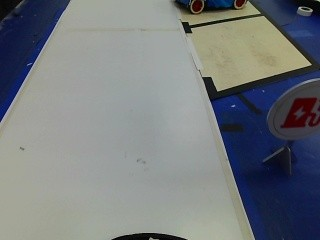battery: (264, 77, 318, 145)
car: (173, 0, 255, 15)
